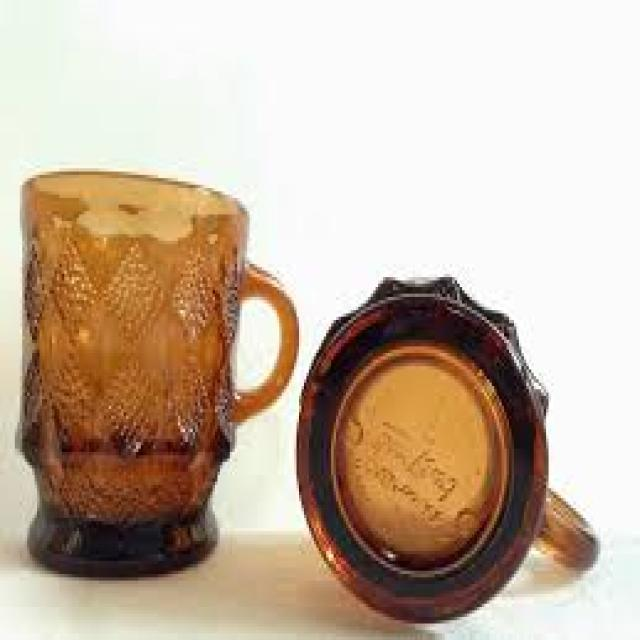glass: (20, 172, 297, 571), (297, 277, 593, 620)
